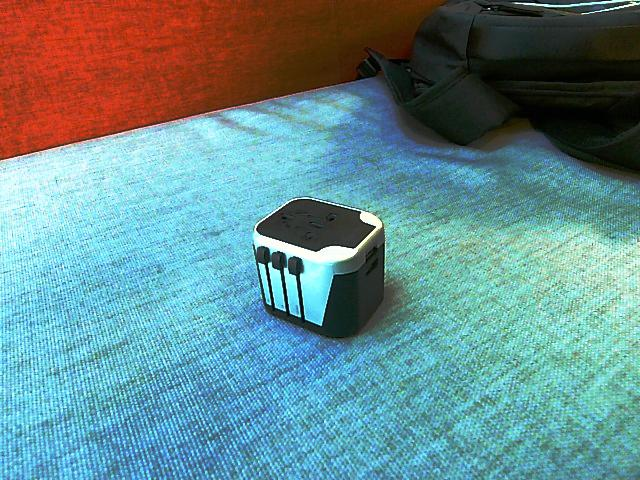adapter: (251, 196, 385, 338)
